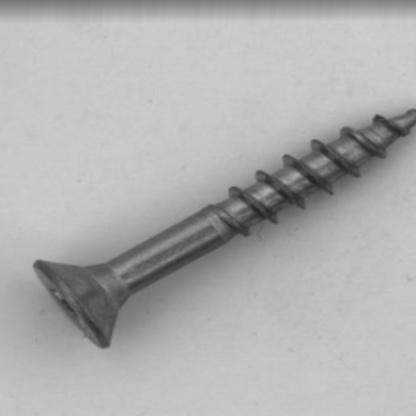metal: (31, 106, 415, 348)
